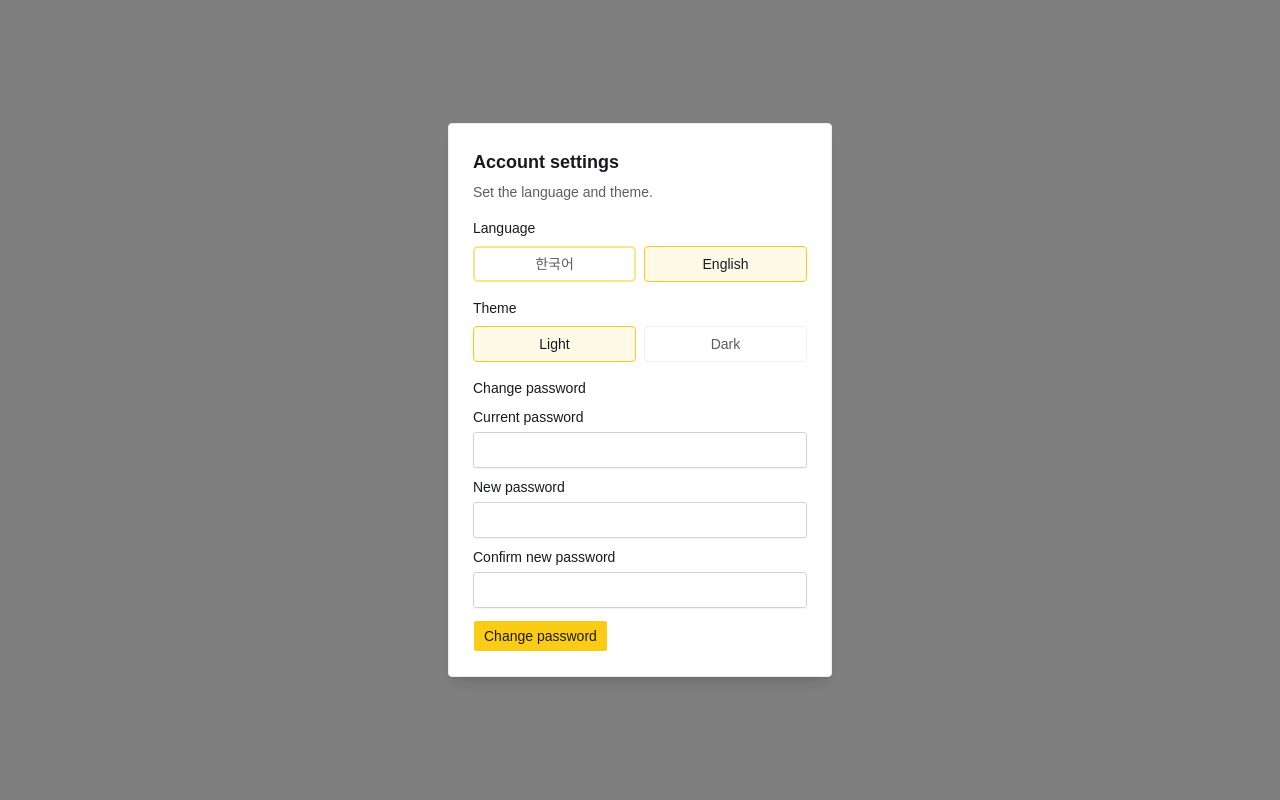
Test: AccountSettingsDialog — password change section › shows an error when the new password and confirmation do not match
Type "current123" into the password field with test id "account-current-password-input" at {"x": 640, "y": 450}, box [473,432,807,468]
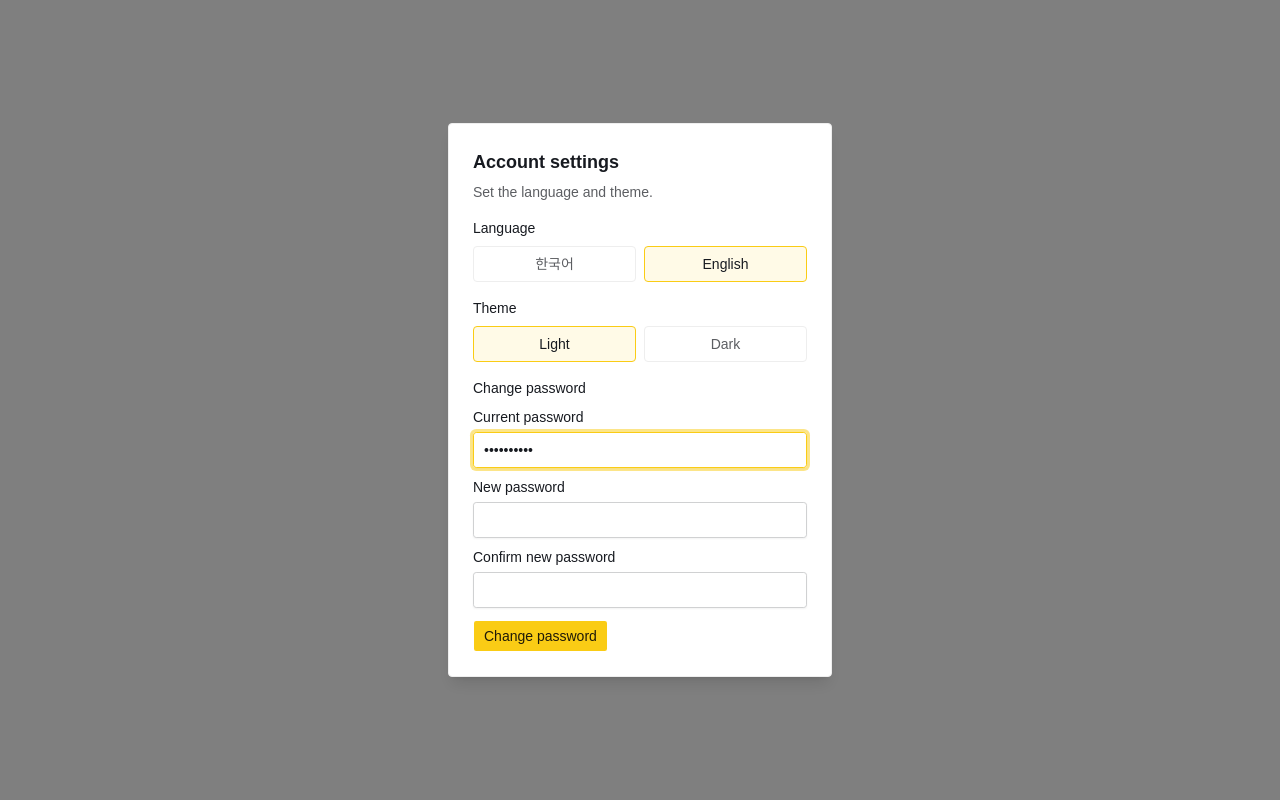
Type "newpass123" into the password field with test id "account-new-password-input" at {"x": 640, "y": 520}, box [473,502,807,538]
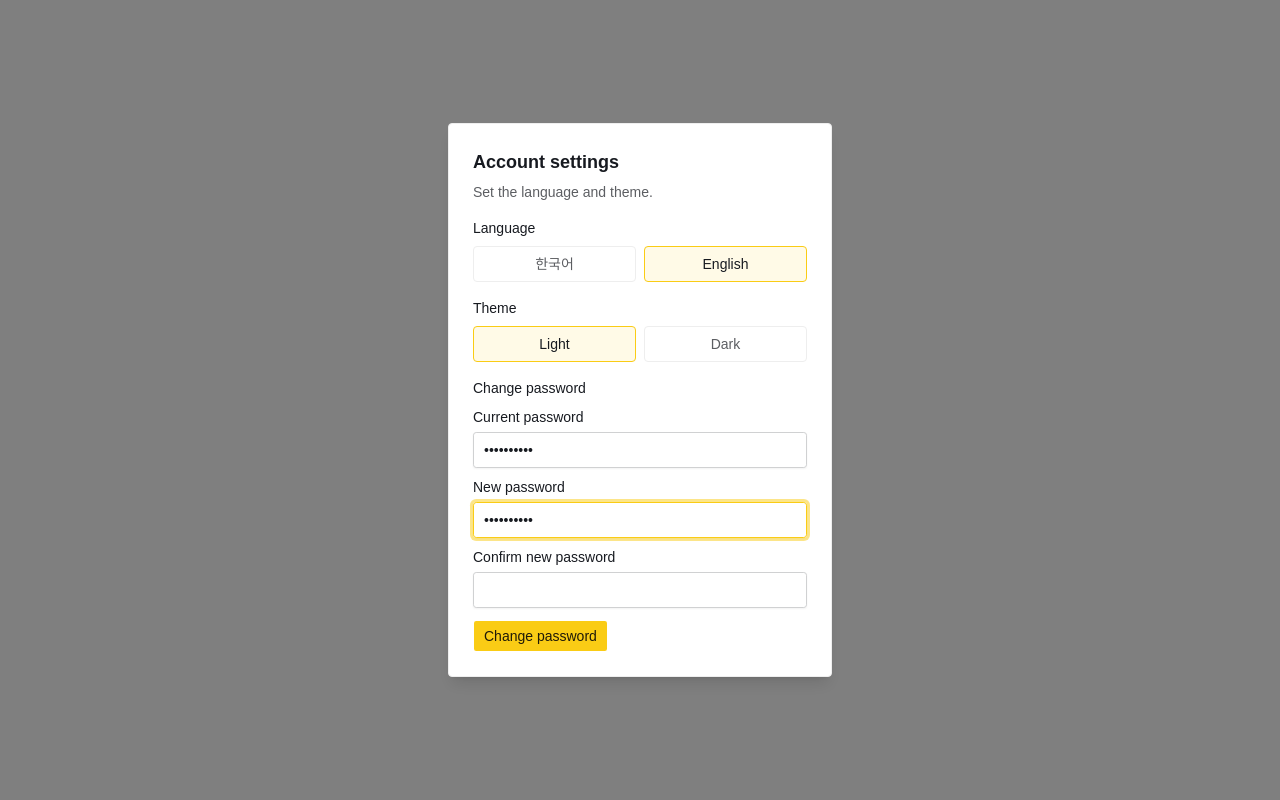
Type "different123" into the password field with test id "account-confirm-password-input" at {"x": 640, "y": 590}, box [473,572,807,608]
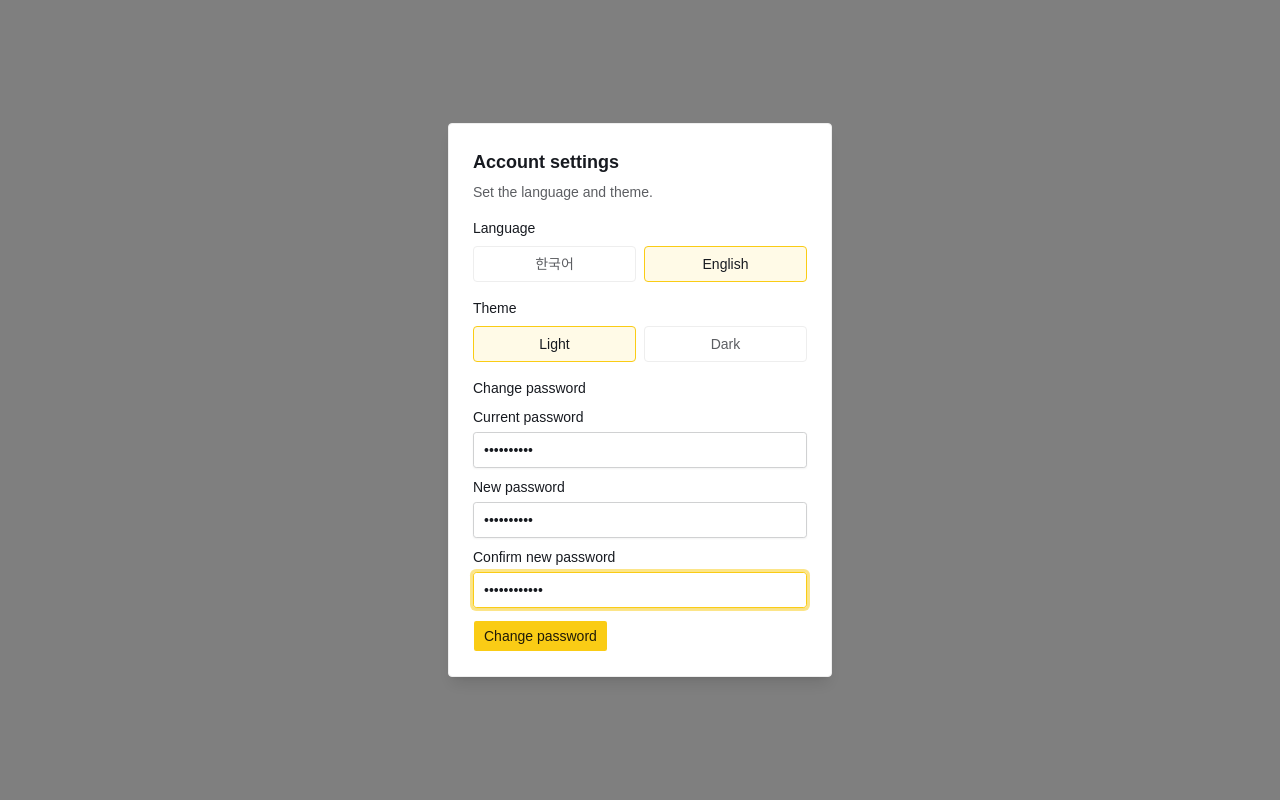
Click the button with test id "account-change-password-submit" at {"x": 540, "y": 636}, box [473,620,608,652]
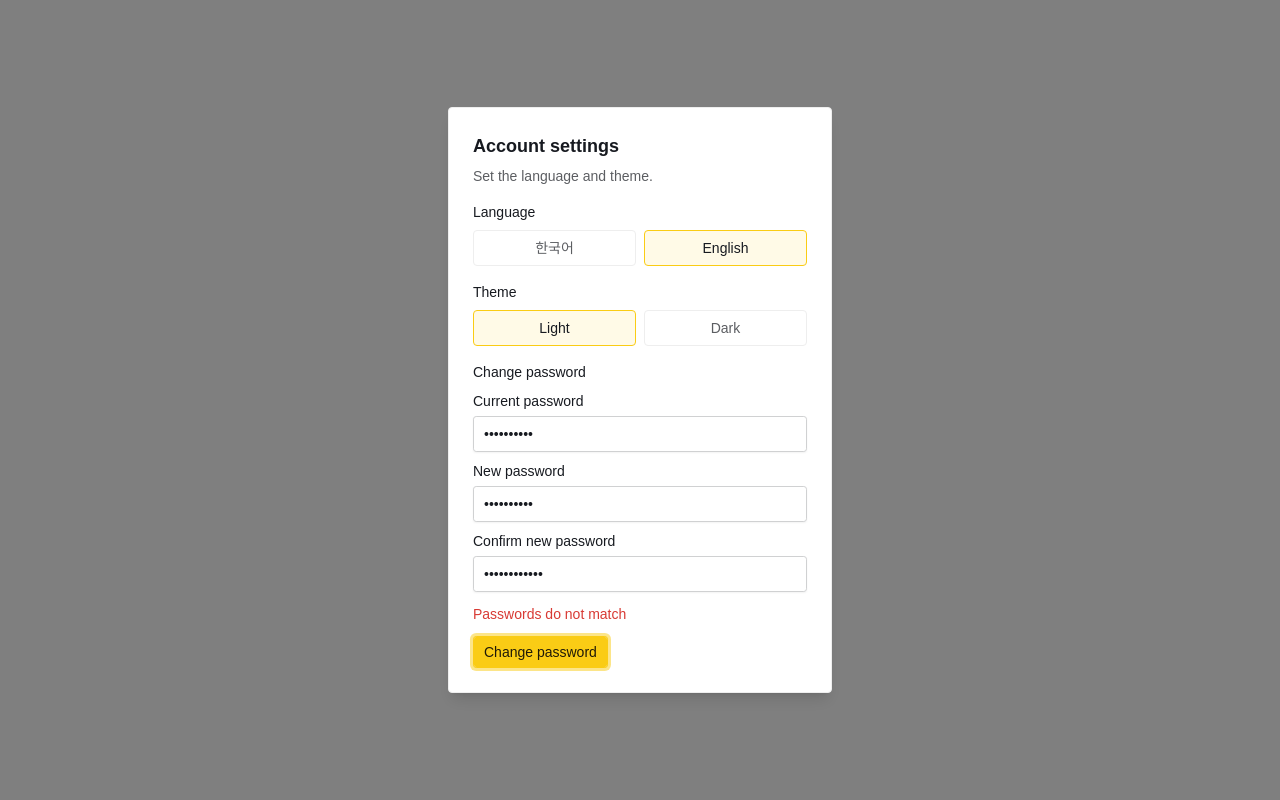
Expected: the text "Passwords do not match" is shown, [473,606,626,622]
